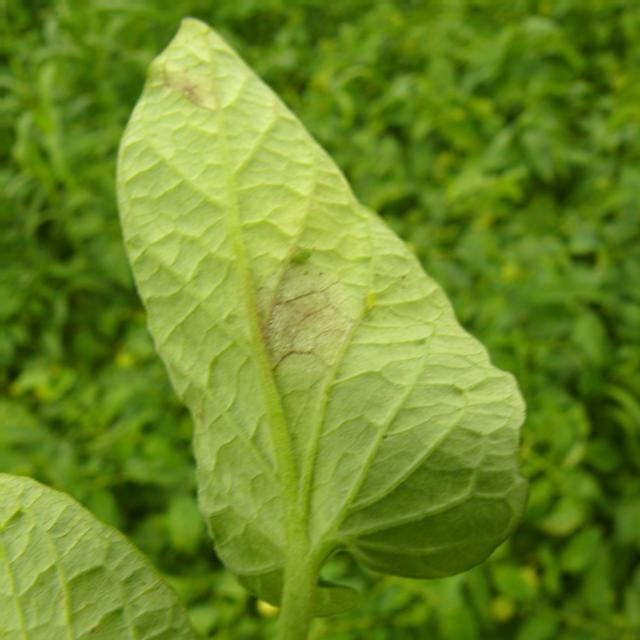Tomato leaf late blight: (103, 5, 554, 626)
